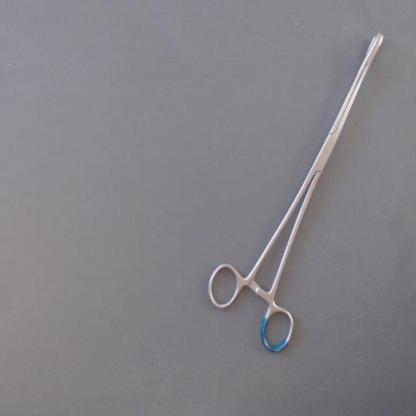Sponge Forceps: (202, 13, 392, 362)
